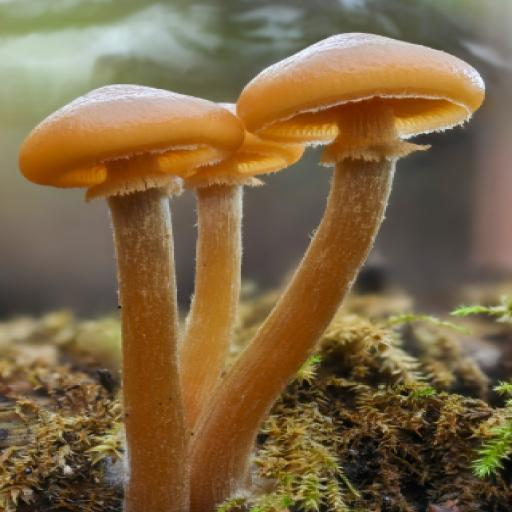mushroom: (18, 27, 489, 424)
